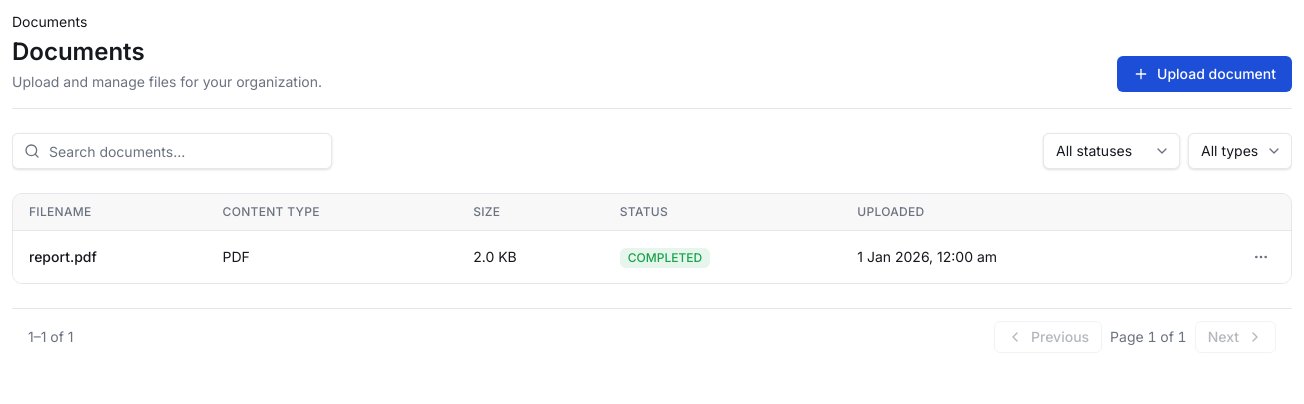
it: DocumentsListPage › RBAC visibility › OWNER sees Upload and Delete
This screenshot has width=1304, height=404.
Expected: the link "report.pdf" is shown, [29, 248, 97, 265]
Expected: the button "Upload document" is shown, [1117, 56, 1292, 92]
Click the button named "Actions for report.pdf": (1261, 257) [1247, 243, 1275, 271]
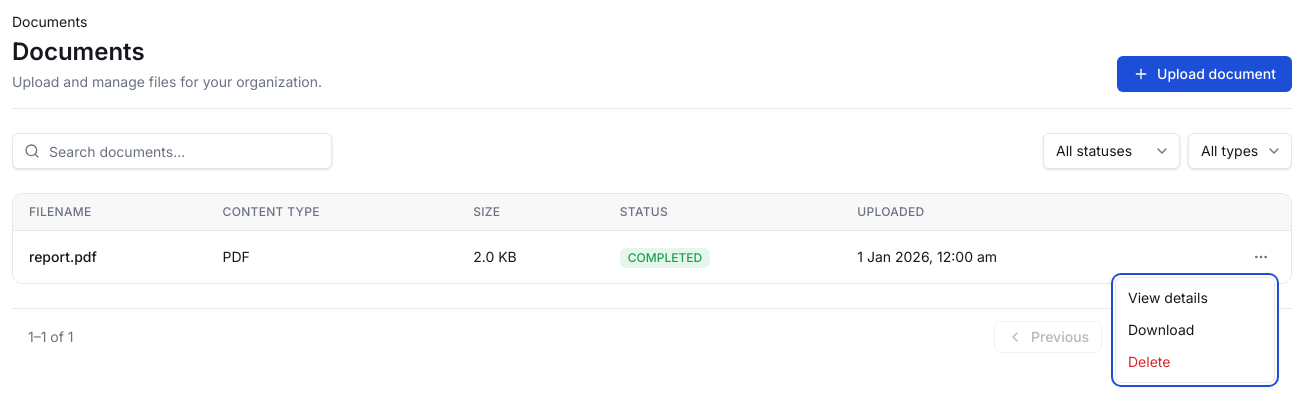
Expected: the menu item "Delete" is shown, [1128, 353, 1170, 370]
